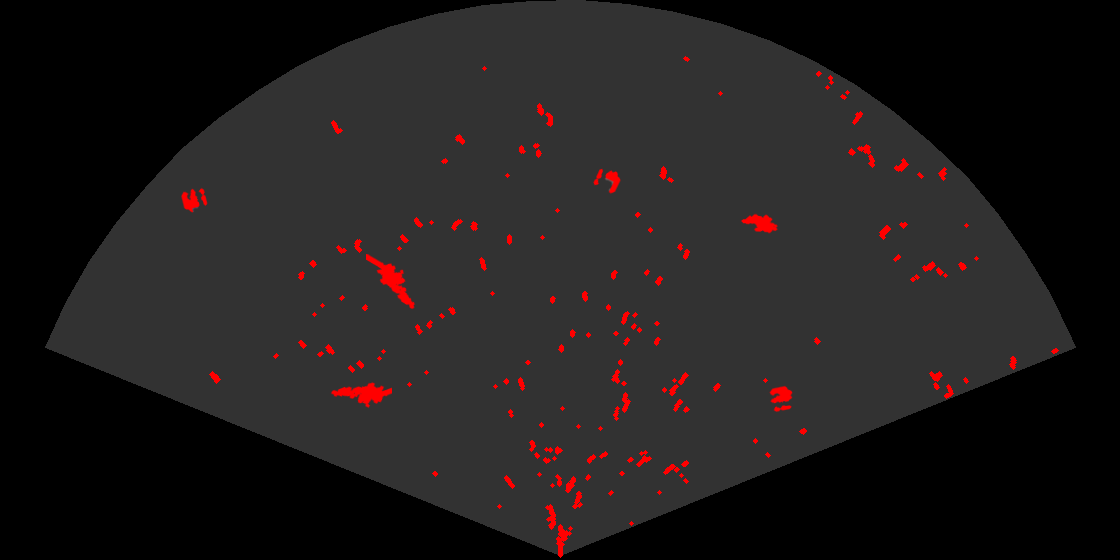AUV: (739, 212, 780, 235)
ball: (592, 167, 622, 196), (180, 186, 209, 214), (768, 384, 794, 413)
frogman: (366, 254, 417, 311), (329, 381, 392, 410)
